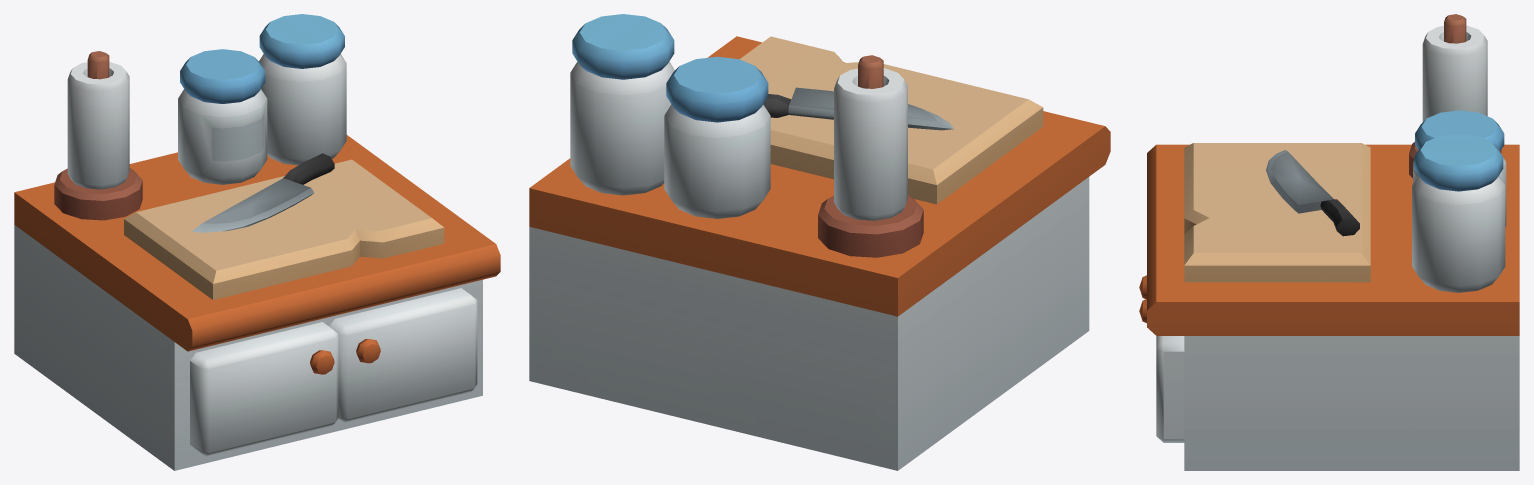
Rendered from kaykit-restaurant-bits-kitchencounter-straight-decorated.glb.
3 views of the same model, side by side, from view 1: azimuth 30°, elevation 25°; view 2: azimuth 150°, elevation 25°; view 3: azimuth 270°, elevation 25° (orthographic). The views are drawn at different scales.
Parts seen in each view (by area): view 1: kitchencounter_straight_decorated; view 2: kitchencounter_straight_decorated; view 3: kitchencounter_straight_decorated.
Part boxes in pixels (x1,y1,x2,y2): kitchencounter_straight_decorated: [14, 14, 500, 470]; kitchencounter_straight_decorated: [529, 14, 1110, 470]; kitchencounter_straight_decorated: [1139, 14, 1519, 470].
Size of the model in its own units: 2 by 1.91 by 2.04.
1 material, 1 textured.
